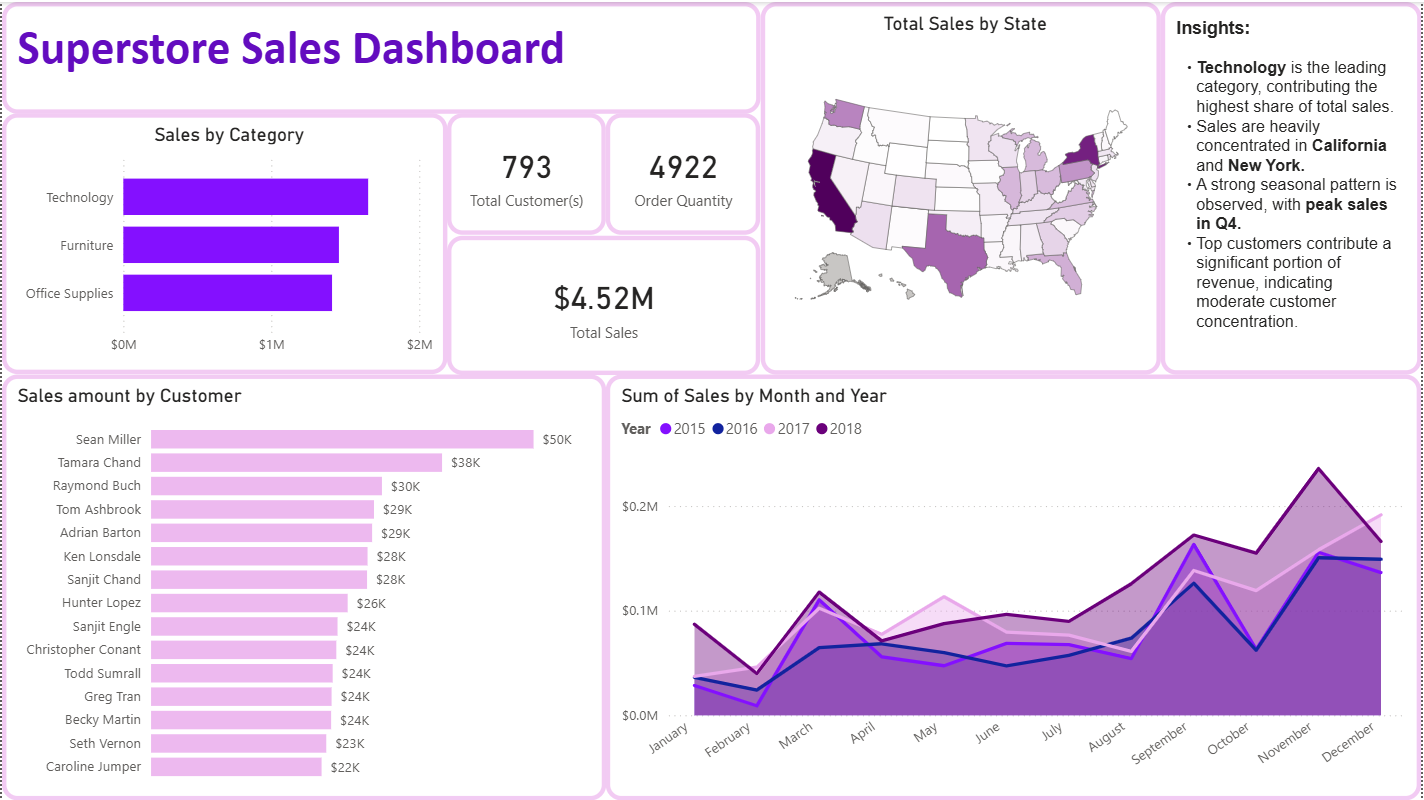

What the dashboard file says about the page in this screenshot:
{"tool":"powerbi","page":{"name":"Sales Dashboard","canvas":[1280,720],"ordinal":0},"visuals":[{"type":"shapeMap","title":"Total Sales by State","fields":{"Value":["Sum(train.Sales)"],"Category":["train.State"]},"box":[684.2,0,360.7,335.9],"z":0},{"type":"clusteredBarChart","title":"Sales amount by Customer","fields":{"Category":["train.Customer_Name"],"Y":["Sum(train.Sales)"]},"box":[0,335.9,544.9,384.4],"z":1000},{"type":"areaChart","fields":{"Category":["train.Order_Date.Variation.Date Hierarchy.Month","train.Order_Date.Variation.Date Hierarchy.Day"],"Y":["Sum(train.Sales)"],"Series":["train.Order_Date.Variation.Date Hierarchy.Year"]},"box":[544.9,335.9,735.2,384.4],"z":2000},{"type":"card","fields":{"Values":["Sum(train.Sales)"]},"box":[401.8,210.2,282.4,125.6],"z":3000},{"type":"card","fields":{"Values":["Count(train.Order_ID)"]},"box":[544.9,100.8,139.3,109.5],"z":4000},{"type":"barChart","title":"Sales by Category","fields":{"Y":["Sum(train.Sales)"],"Category":["train.Category"]},"box":[0,100.8,401.8,235.1],"z":5000},{"type":"textbox","box":[0,0,684.2,100.8],"z":6000},{"type":"card","fields":{"Values":["Count(train.Customer_ID)"]},"box":[401.8,100.8,143.1,109.5],"z":7000},{"type":"textbox","box":[1044.9,0,235.1,335.9],"z":7001}]}

Visuals, with their boxes in screenshot pixels (x1, y1, x2, y2), scaled from the page's 1280x720 canvas onto the 1424x800 screenshot:
"Total Sales by State" shapeMap: BBox(761, 0, 1162, 373)
"Sales amount by Customer" clusteredBarChart: BBox(0, 373, 606, 799)
areaChart - train.Order_Date.Variation.Date Hierarchy.Month x train.Order_Date.Variation.Date Hierarchy.Day: BBox(606, 373, 1423, 799)
card - Sum(train.Sales): BBox(447, 234, 761, 373)
card - Count(train.Order_ID): BBox(606, 112, 761, 234)
"Sales by Category" barChart: BBox(0, 112, 447, 373)
textbox: BBox(0, 0, 761, 112)
card - Count(train.Customer_ID): BBox(447, 112, 606, 234)
textbox: BBox(1162, 0, 1423, 373)
